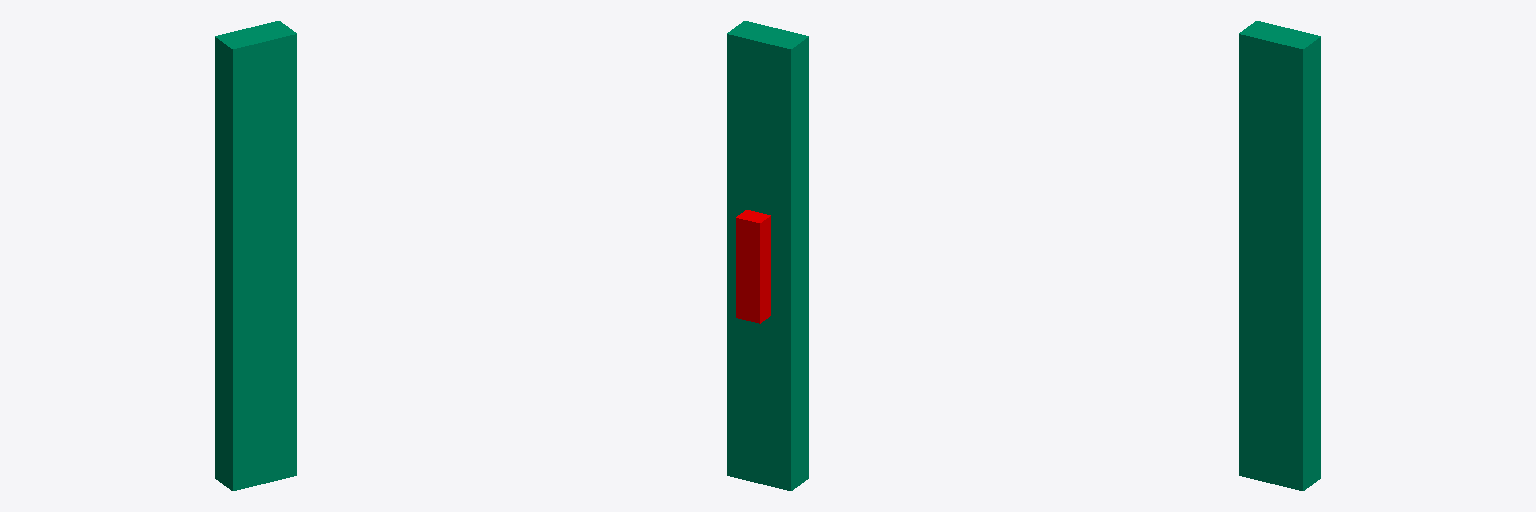
URDF robot description (knife):
<?xml version='1.0' encoding='utf-8'?>
<robot name="knife">
  <link name="base" /><joint name="joint_0" type="fixed"><origin xyz="0 0 0" rpy="0 0 0" /><parent link="base" /><child link="link_0" /></joint><link name="link_1">
    <visual name="link_1">
      <origin xyz="0 0.008841 0" rpy="0 0 0" />
      <geometry>
        <box size="0.008627264904931606 0.006675983584381633 0.03349953985263216" /></geometry>
    <material name="red"><color rgba="1 0 0 1" /></material></visual>
    <collision>
      <origin xyz="0 0.008841 0" rpy="0 0 0" />
      <geometry>
        <box size="0.008627264904931606 0.006675983584381633 0.03349953985263216" /></geometry>
    </collision>
    </link>
  <joint name="joint_1" type="prismatic">
    <origin xyz="0 0 0" />
    <axis xyz="0 0 1" />
    <child link="link_1" />
    <parent link="link_0" />
    <limit lower="-0.039895" upper="0.010105" effort="100.0" velocity="1.0" />
  </joint>
  <link name="link_0">
    <visual name="link_0">
      <origin xyz="0 0 0" />
      <geometry>
        <box size="0.022644126596564954 0.01100699865013418 0.14767594764914102" /></geometry>
    </visual>
    <collision>
      <origin xyz="0 0 0" />
      <geometry>
        <box size="0.022644126596564954 0.01100699865013418 0.14767594764914102" /></geometry>
    </collision>
    </link>
</robot>

--- Render facts (derived) ---
The picture shows the robot from 3 angles, left to right: view 1: azimuth 30°, elevation 25°; view 2: azimuth 150°, elevation 25°; view 3: azimuth 330°, elevation 25°; orthographic projection.
Robot: knife — 3 links, 2 joints (1 prismatic, 1 fixed); root link base; default pose: every joint at zero.
Links seen in each view (by area): view 1: link_0; view 2: link_0, link_1; view 3: link_0.
Boxes of the visible links, left/top/right/bottom form: link_0: left=215, top=21, right=296, bottom=490; link_0: left=727, top=21, right=808, bottom=490; link_1: left=736, top=210, right=770, bottom=323; link_0: left=1239, top=21, right=1320, bottom=490.
Bounding box of the posed robot: 0.0226 × 0.0177 × 0.1477 m (x, y, z).
Geometry: primitives only (box / cylinder / sphere), no mesh files.
